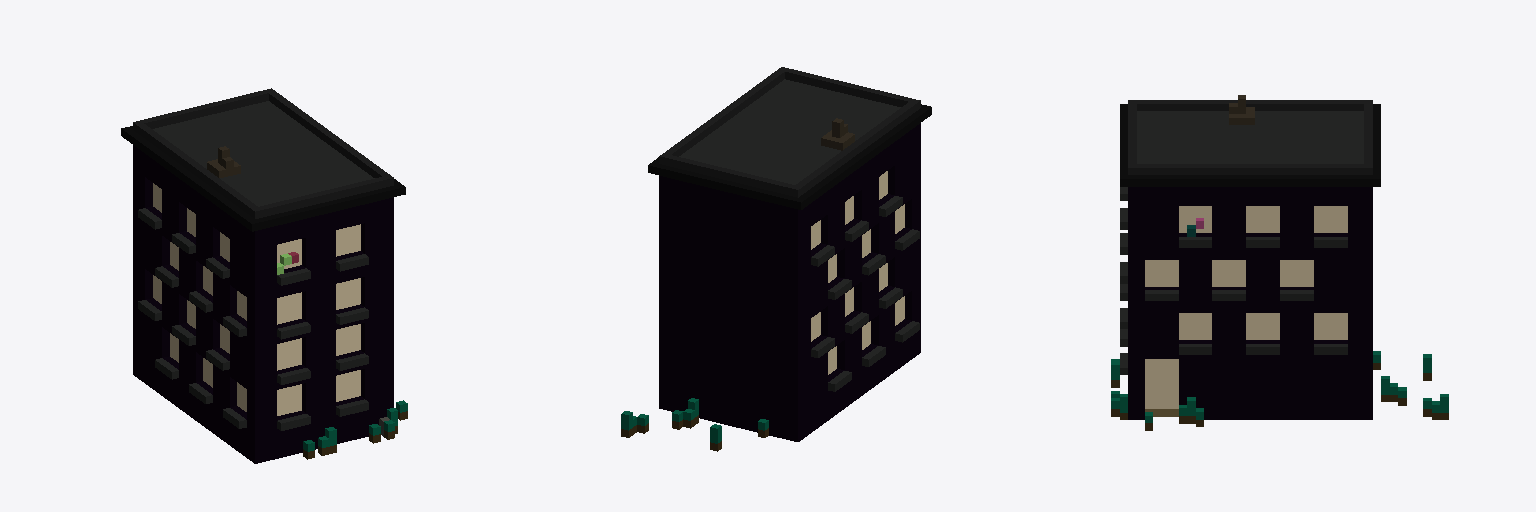
The picture shows the model from 3 angles: view 1: azimuth 30°, elevation 25°; view 2: azimuth 150°, elevation 25°; view 3: azimuth 270°, elevation 25°; orthographic projection.
Parts seen in each view (by area): view 1: object 1; view 2: object 1; view 3: object 1.
Boxes of the visible parts, x1=… form: object 1: x1=121, y1=88, x2=407, y2=463; object 1: x1=621, y1=67, x2=931, y2=451; object 1: x1=1111, y1=95, x2=1448, y2=430.
Size of the model in its own units: 2.3 by 3.5 by 4.
Materials: 1 (1 with a texture image).